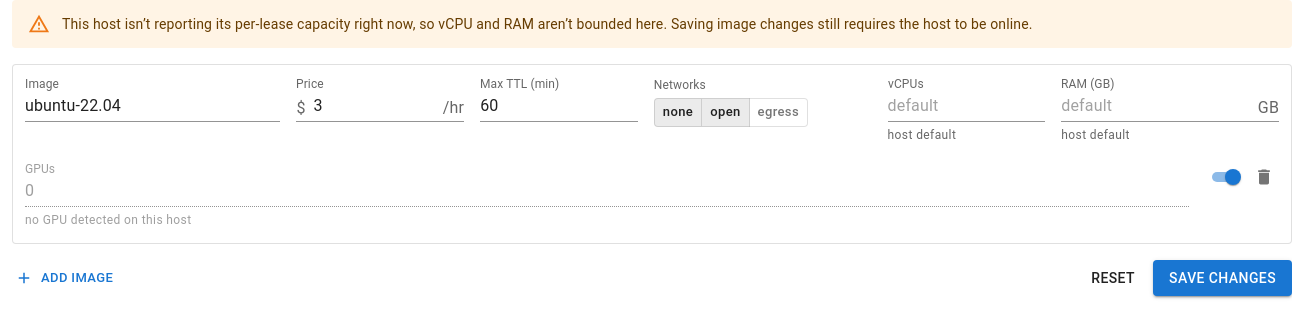
Test: HostImagesEditor › shows the GB→MB conversion inline for a RAM value
In the number field named "ram gb for ubuntu-22.04": (1156,108) [1061, 93, 1250, 122], type "2"
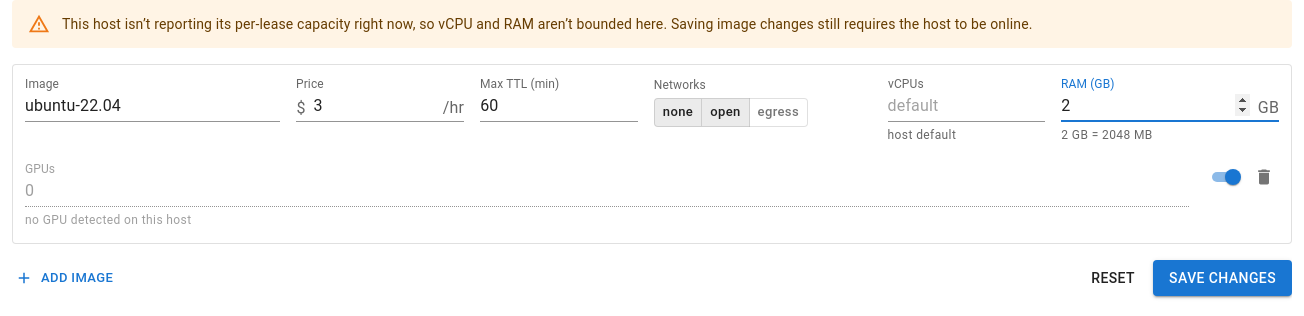
Result: the text "2 GB = 2048 MB" is shown at [1061, 128, 1153, 142]
